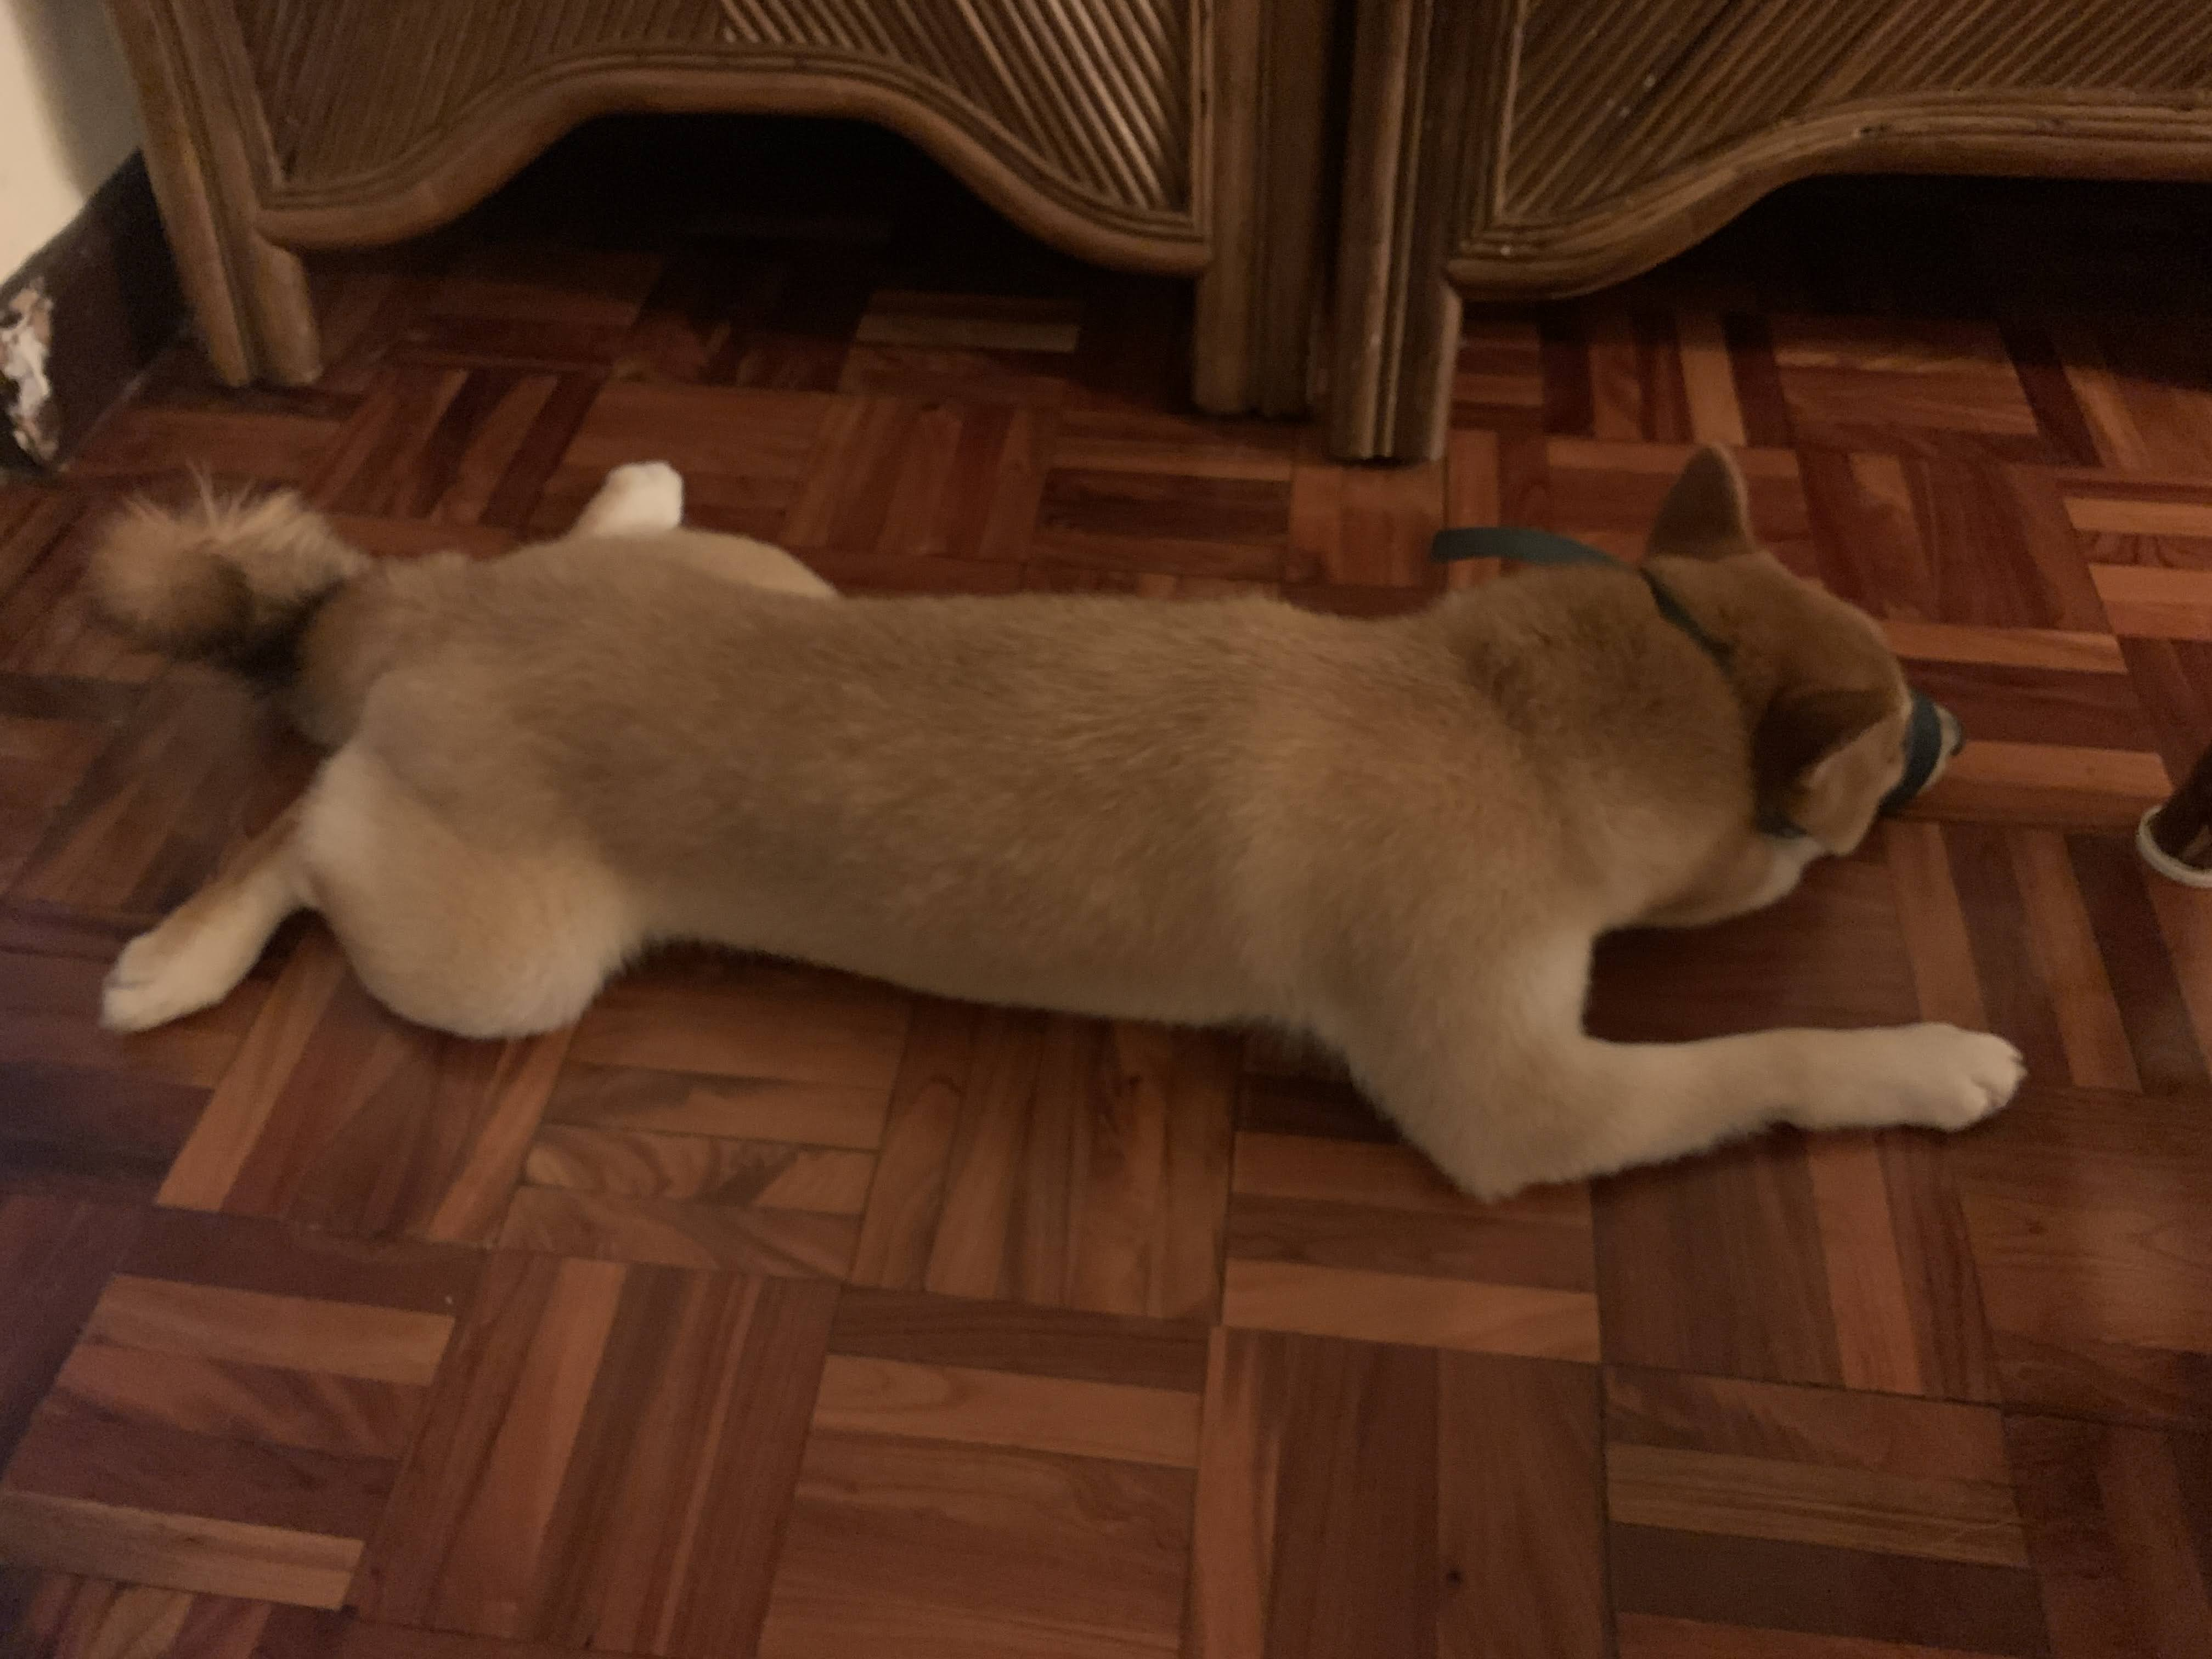Lie down: (98, 373, 2074, 1249)
